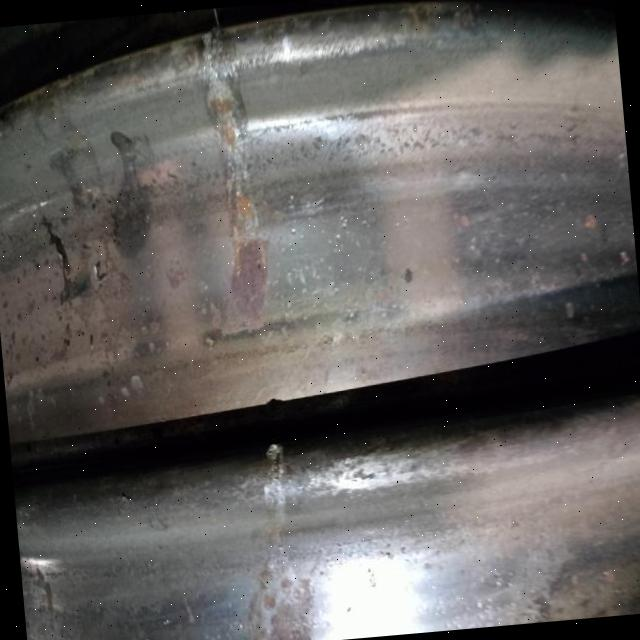Out_Of_Roundness: (135, 100, 373, 183)
Rollerpile: (38, 212, 119, 321)
